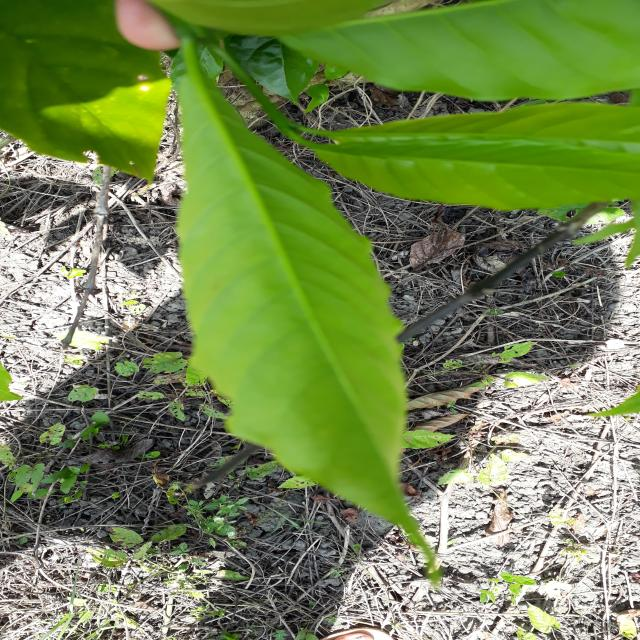Sanas: (168, 37, 439, 580)
